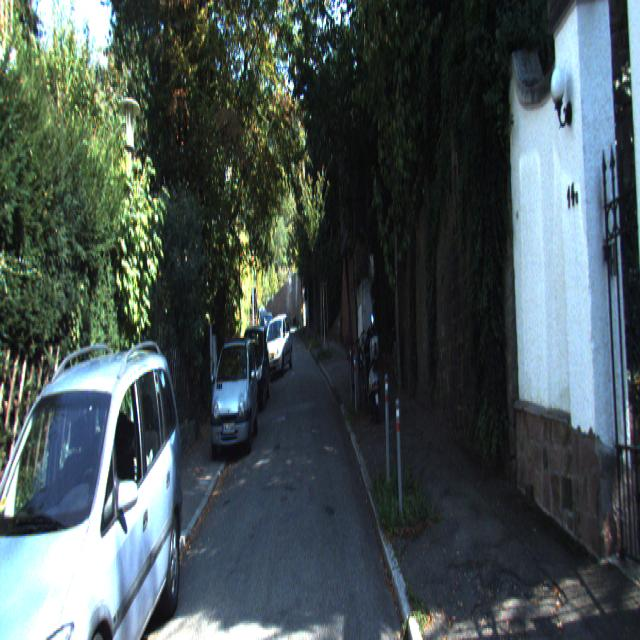Car: (0, 330, 185, 638), (210, 327, 258, 459), (237, 321, 271, 411), (261, 312, 293, 380)
Misc: (364, 316, 381, 429)
